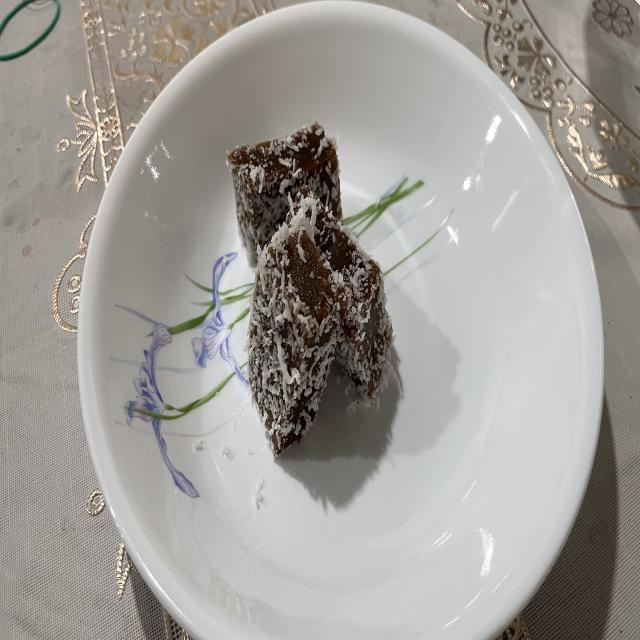kaswi: (248, 196, 350, 456), (279, 185, 395, 402), (226, 122, 341, 267)
